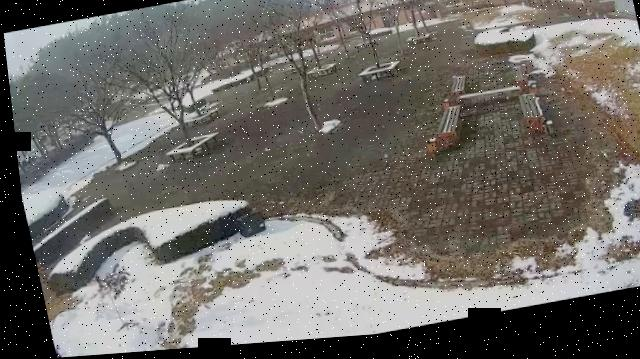bag: (228, 213, 262, 244)
